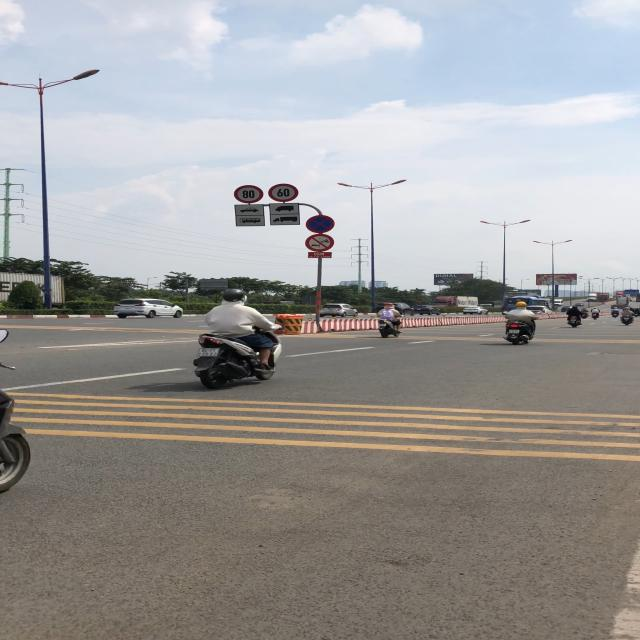Bien bao cam dung xe va do xe: (304, 214, 337, 234)
Bien bao toc do toi da cho phep: (267, 182, 301, 202), (233, 184, 264, 204)
